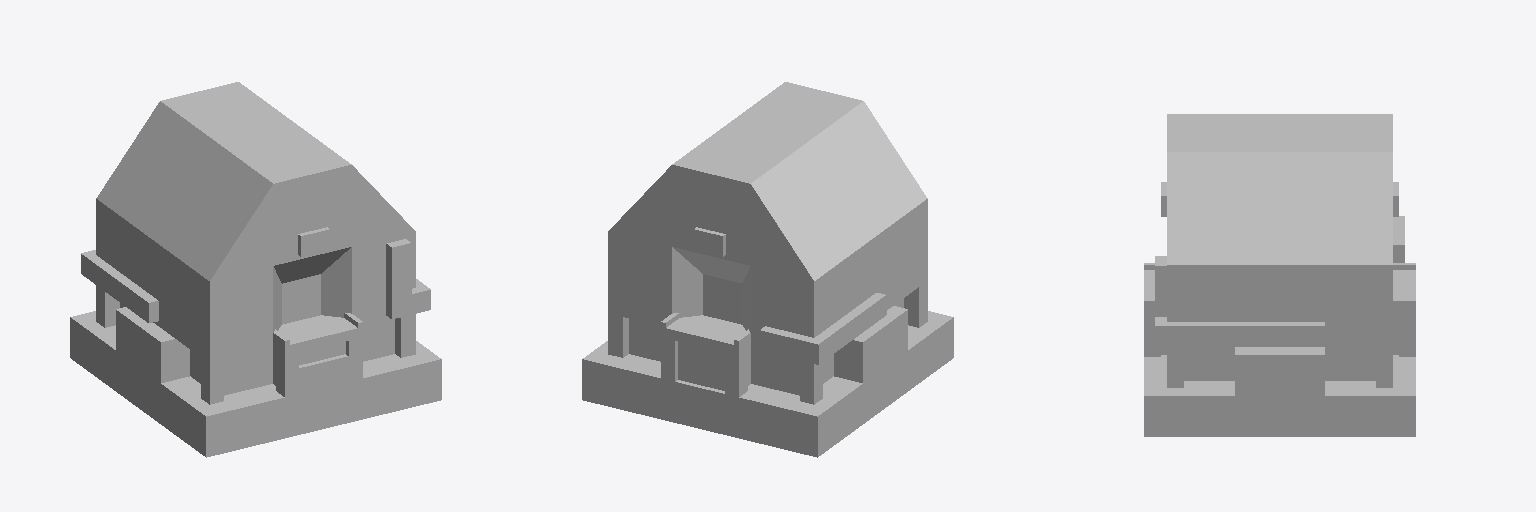
The model's file is assembler.obj.
3 renders of one model, left to right at view 1: azimuth 30°, elevation 25°; view 2: azimuth 150°, elevation 25°; view 3: azimuth 270°, elevation 25°, orthographic.
Parts seen in each view (by area): view 1: base, conveyors; view 2: base, conveyors; view 3: base, conveyors.
Boxes of the visible parts, x1,y1,x2,y2 form: base: [70, 82, 441, 457]; conveyors: [278, 315, 357, 354]; base: [582, 82, 953, 457]; conveyors: [666, 315, 745, 354]; base: [1144, 114, 1415, 436]; conveyors: [1144, 270, 1415, 297].
Bounding box in the file's own units: 3 × 3 × 3.